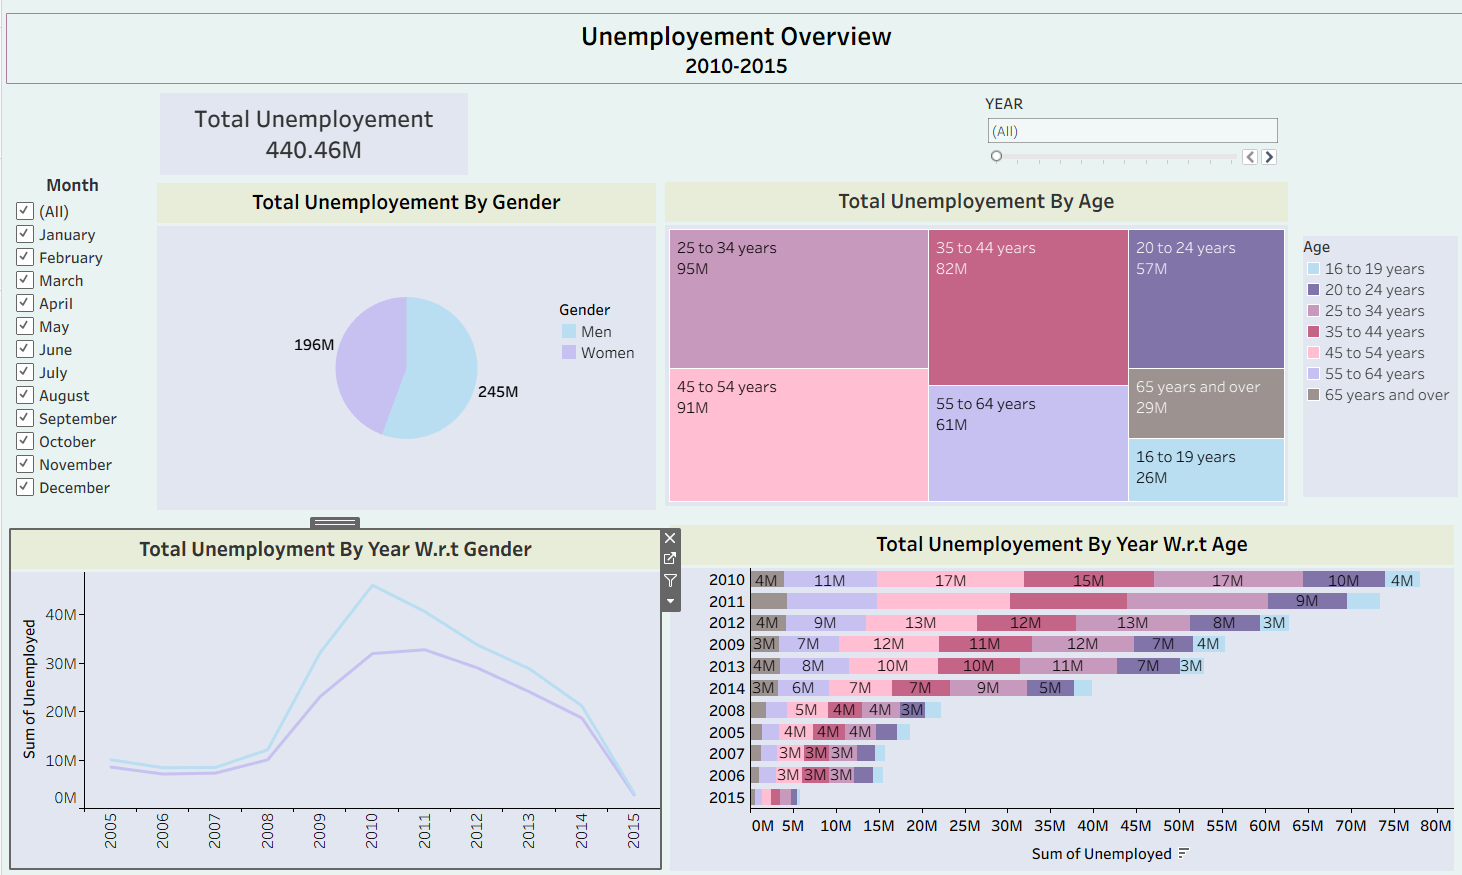

The dashboard page shown, as its layout file describes it:
{"tool":"tableau","page":{"name":"Unemployement Dashboard","canvas":[1500,990],"ordinal":0},"visuals":[{"type":"text","box":[4,15,1461,71]},{"type":"worksheet","title":"Total Uemployement","mark":"Automatic","box":[158,95,308,82]},{"type":"filter","title":"Sheet 7","param":"[federated.1tziv8r02r47dt17hhfh11lxdknb].[yr:Period:ok]","box":[983,95,296,81]},{"type":"worksheet","title":"Sheet 7","mark":"Automatic","box":[510,142,422,12]},{"type":"filter","title":"Sheet 6","param":"[federated.1tziv8r02r47dt17hhfh11lxdknb].[mn:Period:ok]","box":[7,175,127,339]},{"type":"worksheet","title":"Total Unemployement By Age","mark":"Automatic","box":[663,184,623,324]},{"type":"worksheet","title":"Total Unemployement By Gender","mark":"Pie","box":[155,185,499,327]},{"type":"legend","title":"Total Unemployement By Age","param":"[federated.1tziv8r02r47dt17hhfh11lxdknb].[none:Age:nk]","box":[1301,238,155,261]},{"type":"legend","title":"Total Unemployement By Gender","param":"[federated.1tziv8r02r47dt17hhfh11lxdknb].[none:Gender:nk]","box":[557,301.4,150,79.2]},{"type":"worksheet","title":"Total Unemployement By Year W.r.t Age","mark":"Bar","rows":["Period"],"cols":["Unemployed"],"box":[668,527,784,346]},{"type":"worksheet","title":"Total Unemployment By Year W.r.t Gender","mark":"Line","rows":["Unemployed"],"cols":["Period"],"box":[9,532,649,338]},{"type":"worksheet","title":"Sheet 6","mark":"Automatic","box":[207.7,919.8,498.5,10.4]}]}

Visuals, with their boxes on the page's 1500x990 design canvas (x1, y1, x2, y2). These are canvas units, not pixel positions in the 1462x875 screenshot, which may show the page scaled, cropped or inside an application window:
text: {"x1": 4, "y1": 15, "x2": 1465, "y2": 86}
"Total Uemployement" worksheet: {"x1": 158, "y1": 95, "x2": 466, "y2": 177}
"Sheet 7" filter: {"x1": 983, "y1": 95, "x2": 1279, "y2": 176}
"Sheet 7" worksheet: {"x1": 510, "y1": 142, "x2": 932, "y2": 154}
"Sheet 6" filter: {"x1": 7, "y1": 175, "x2": 134, "y2": 514}
"Total Unemployement By Age" worksheet: {"x1": 663, "y1": 184, "x2": 1286, "y2": 508}
"Total Unemployement By Gender" worksheet (Pie marks): {"x1": 155, "y1": 185, "x2": 654, "y2": 512}
"Total Unemployement By Age" legend: {"x1": 1301, "y1": 238, "x2": 1456, "y2": 499}
"Total Unemployement By Gender" legend: {"x1": 557, "y1": 301, "x2": 707, "y2": 381}
"Total Unemployement By Year W.r.t Age" worksheet (Bar marks): {"x1": 668, "y1": 527, "x2": 1452, "y2": 873}
"Total Unemployment By Year W.r.t Gender" worksheet (Line marks): {"x1": 9, "y1": 532, "x2": 658, "y2": 870}
"Sheet 6" worksheet: {"x1": 208, "y1": 920, "x2": 706, "y2": 930}
